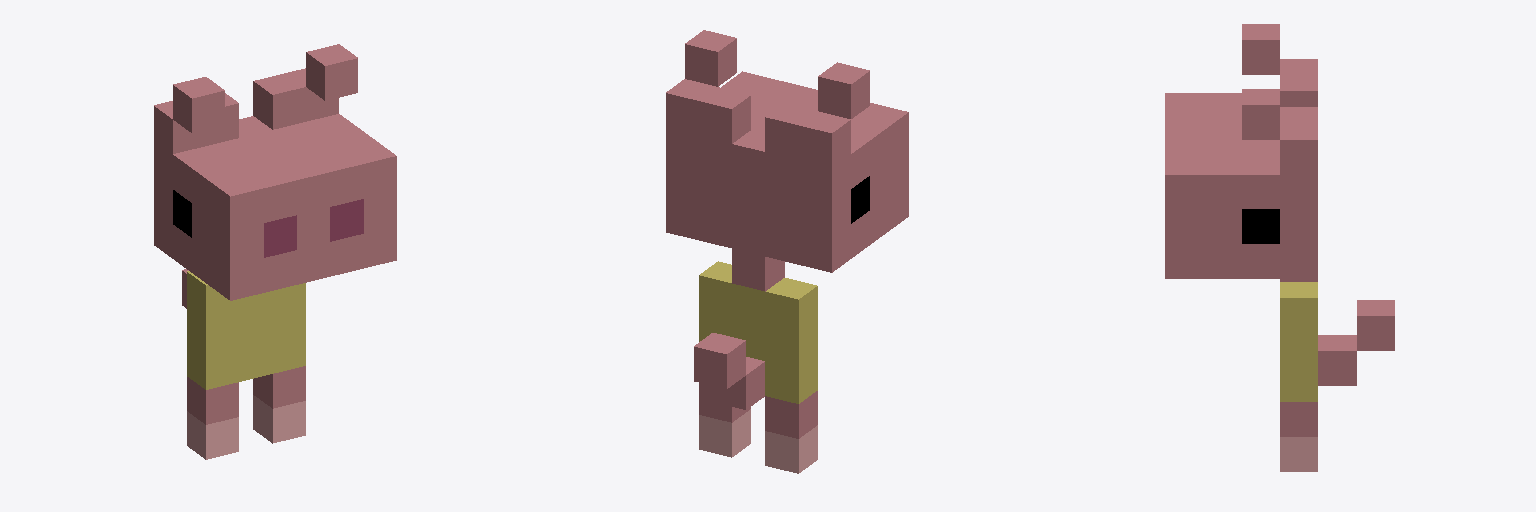
The picture shows the model from 3 angles: view 1: azimuth 30°, elevation 25°; view 2: azimuth 150°, elevation 25°; view 3: azimuth 270°, elevation 25°; orthographic projection.
Parts seen in each view (by area): view 1: object 1; view 2: object 1; view 3: object 1.
Part boxes in pixels (bbox=[...]): object 1: bbox=[154, 44, 396, 459]; object 1: bbox=[666, 30, 908, 473]; object 1: bbox=[1165, 24, 1394, 471].
Bounding box in the file's own units: 0.5 × 1.1 × 0.6.
1 materials, 1 textured.